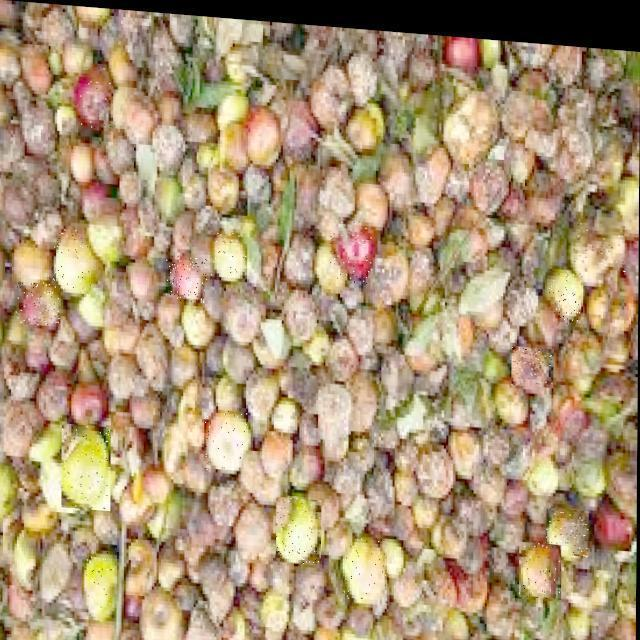organic-waste: (1, 5, 637, 638)
